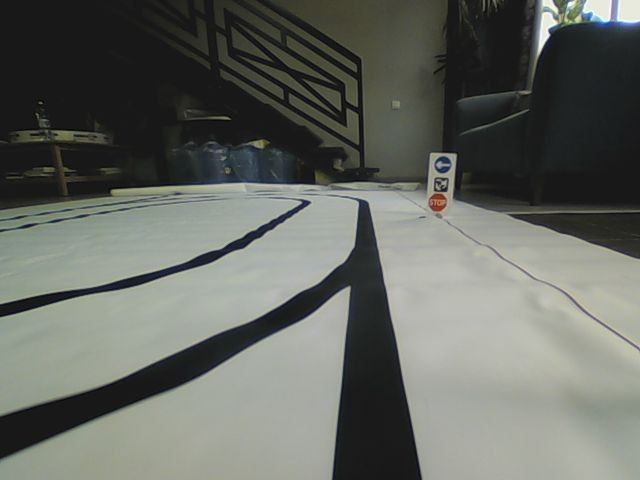Stop: (429, 191, 447, 212)
